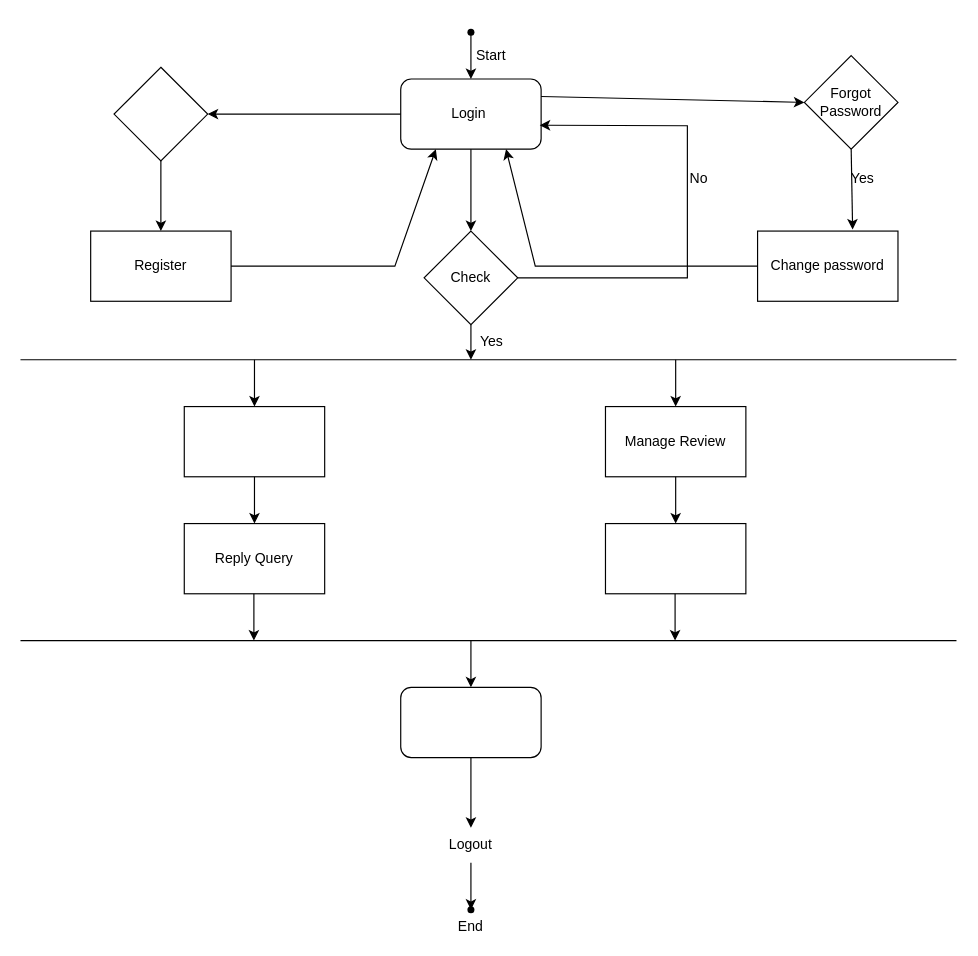
Some shapes in this 978 by 956 pixel diagram are drawn without their labels. The centre of each missing label's shape, as x and y in pixels:
"Display" belongs at (470,722).
"Manage Query" belongs at (254,441).
"Not Registered" belongs at (160,113).
"Update Review" belongs at (675,558).
